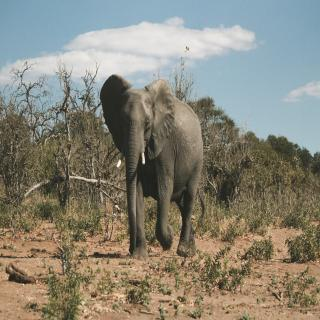Elephant: (95, 66, 208, 271)
